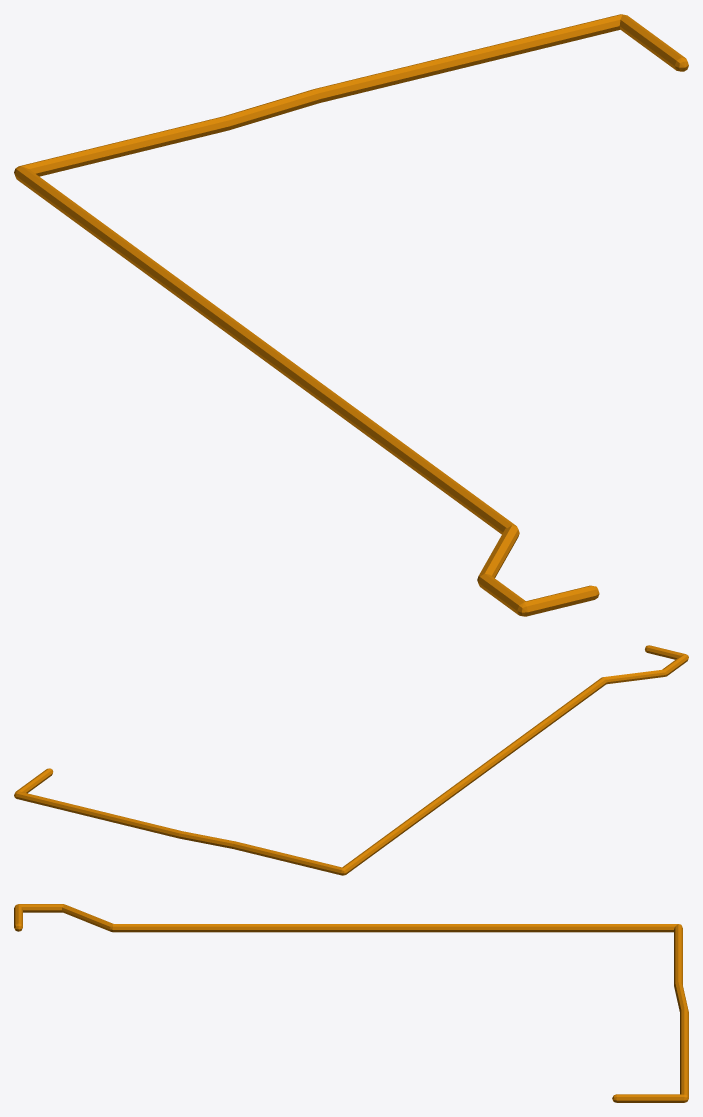
3 views of the same model, one above another, from view 1: azimuth 30°, elevation 25°; view 2: azimuth 150°, elevation 25°; view 3: azimuth 270°, elevation 25° (orthographic). The views are drawn at different scales.
Size of the model in its own units: 1015 by 20 by 1492.
